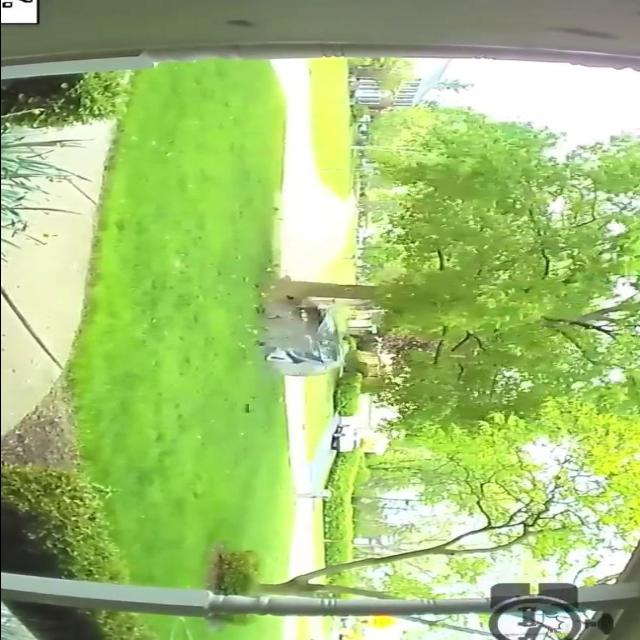accident: (247, 270, 357, 378)
